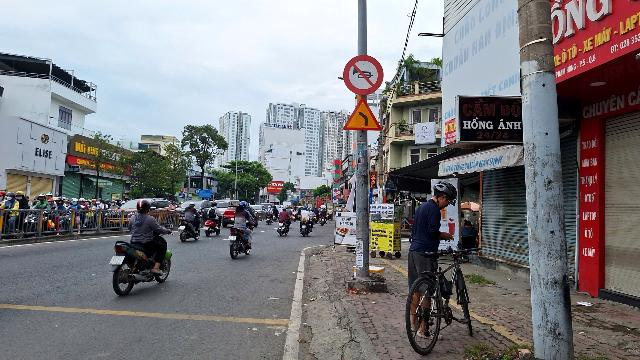cam-bop-coi: (342, 54, 384, 95)
cho-ngoat-nguy-hiem-ben-trai: (343, 97, 382, 130)
